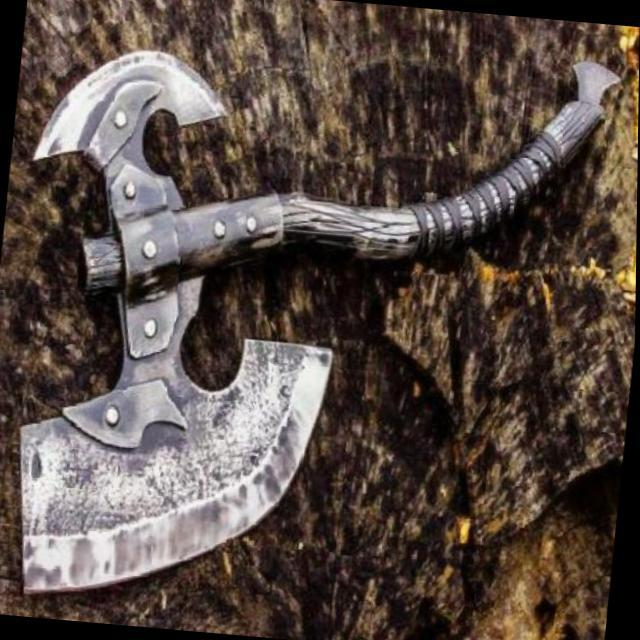weapon: (0, 11, 621, 640)
